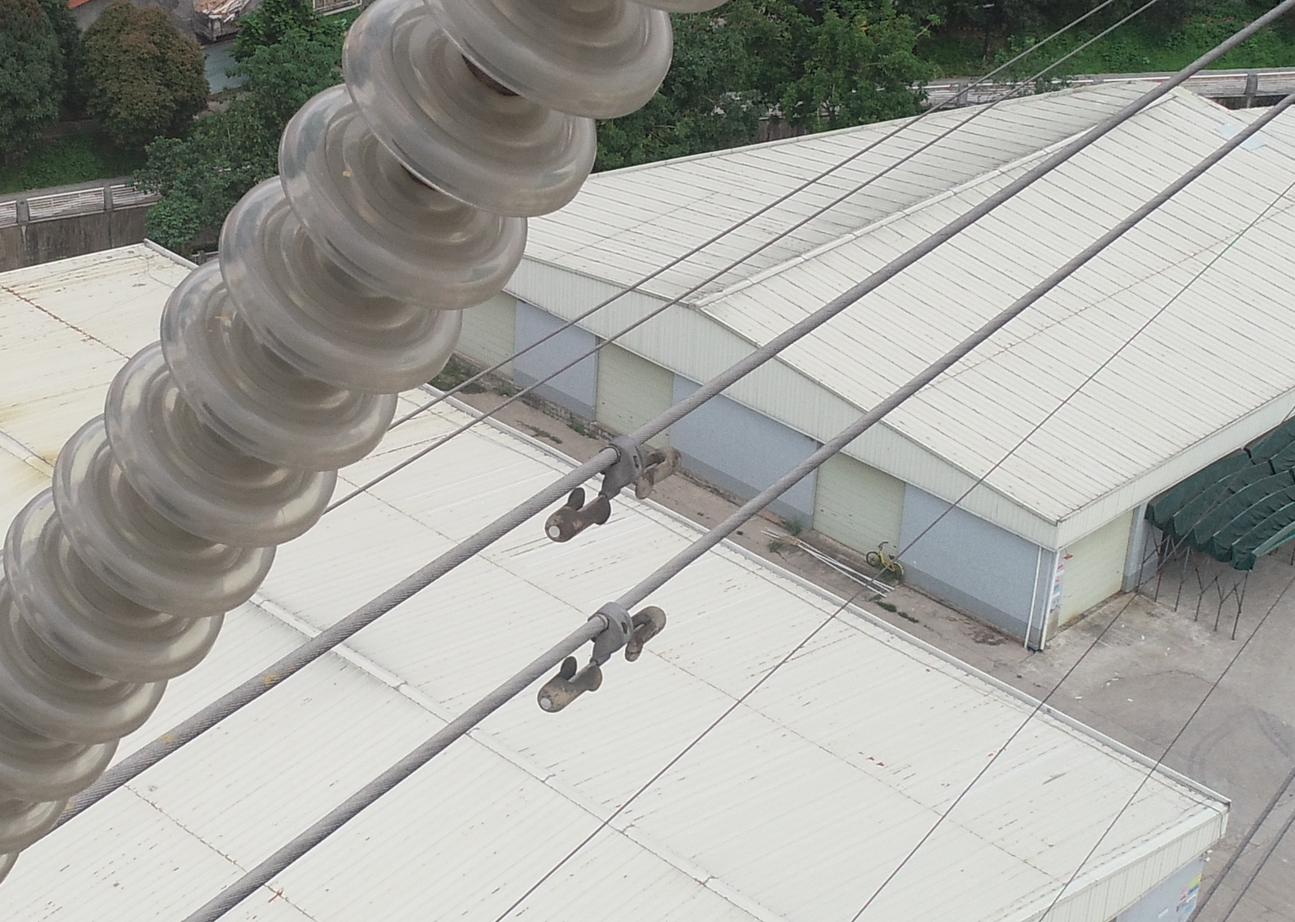damper: (542, 436, 686, 545), (537, 602, 670, 716)
